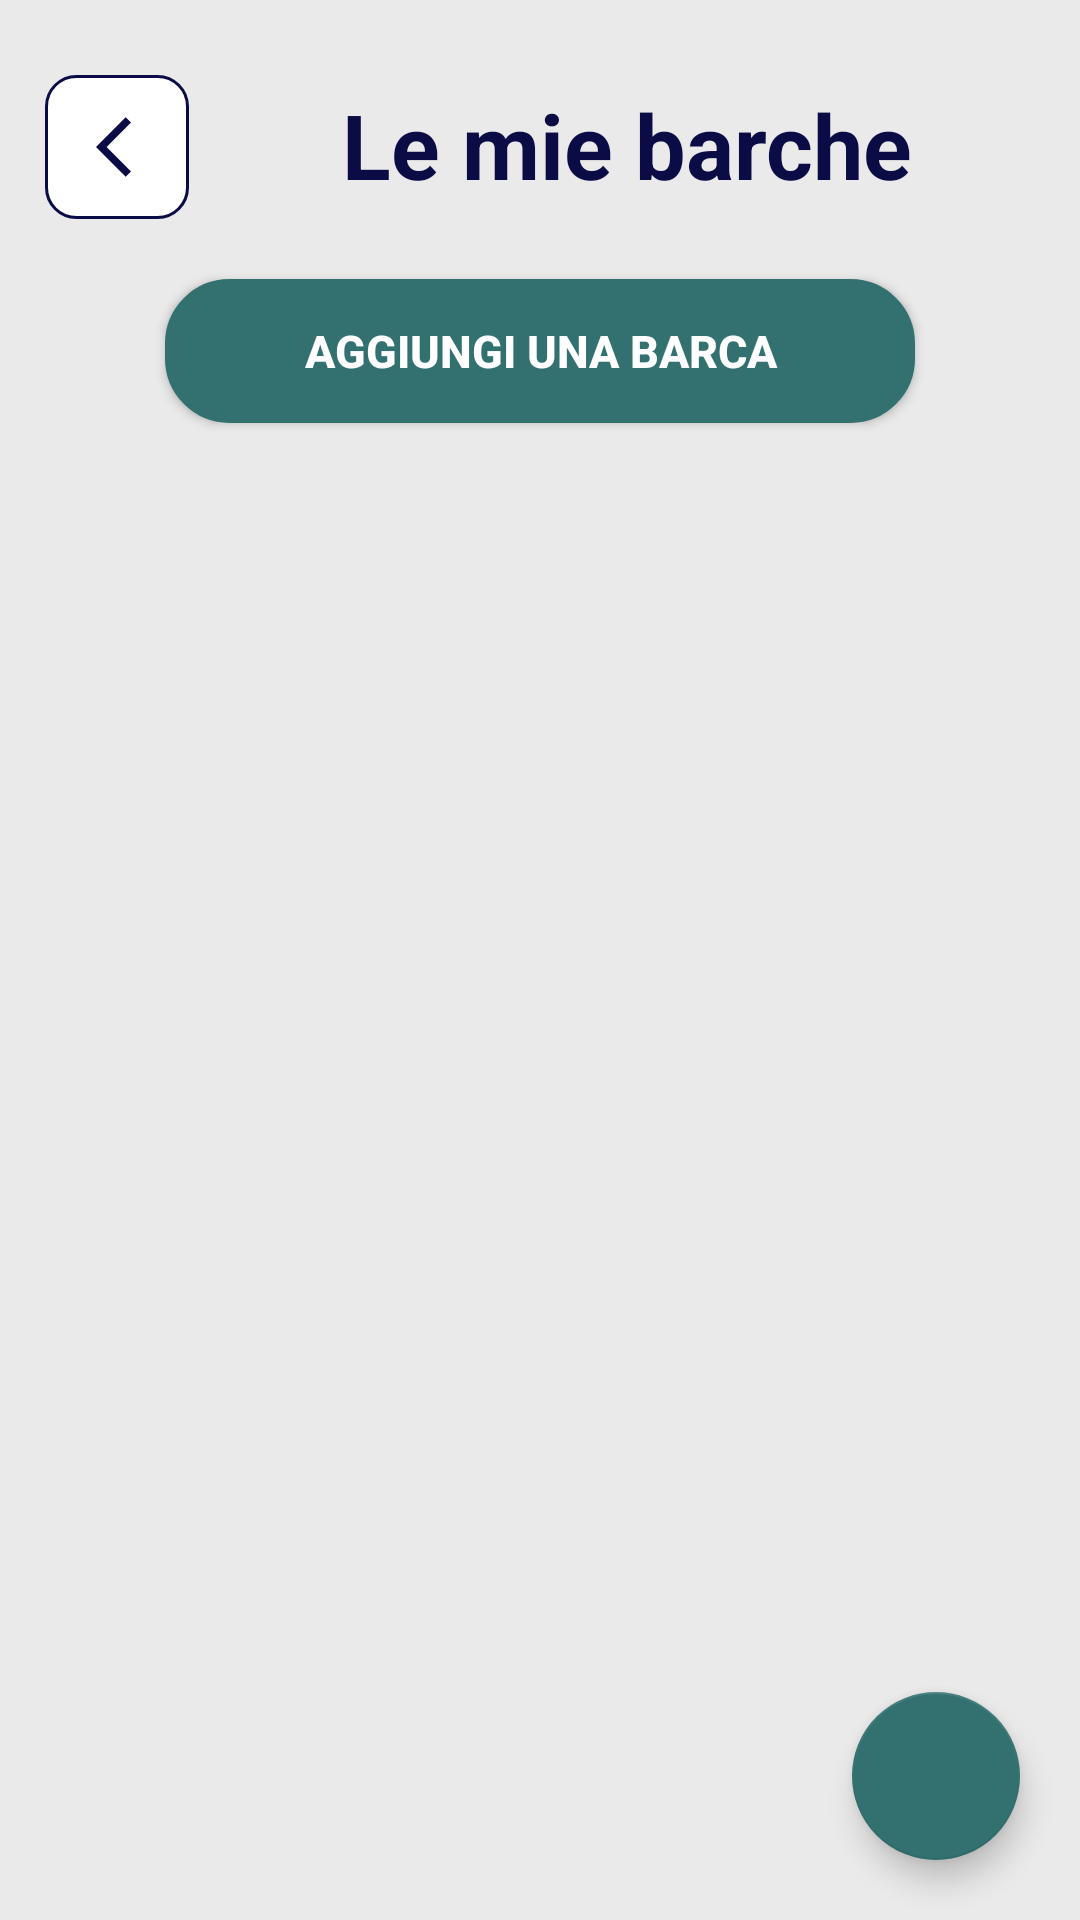

Where icons sit on this 1080*1920 app screen, as region(x1, y1, x2, y2):
Indietro: region(45, 75, 189, 219)
